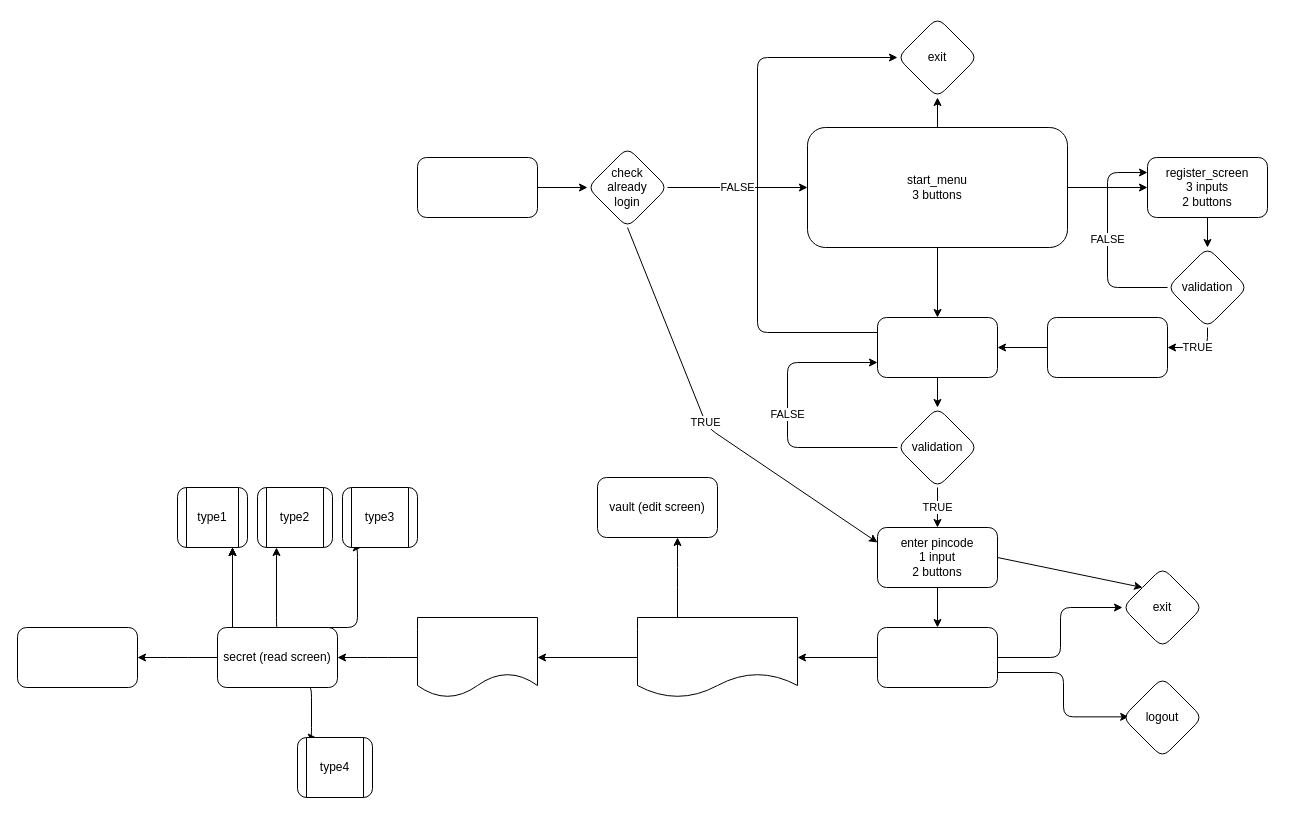
Image size: 1293x815. Some labels were removed from this diagram. Here are the shapes that lost their labels. From the top down, the centre of each, then its label:
pixel 477 187: run APP
pixel 937 347: login_screen 2 inputs 2 buttons
pixel 1107 347: create_pin 2 inputs 1 button
pixel 77 657: secret (edit screen)
pixel 477 657: vault secrets (table)
pixel 717 657: vaults (table) (include default "no vault")
pixel 937 657: main_menu 3 buttons
